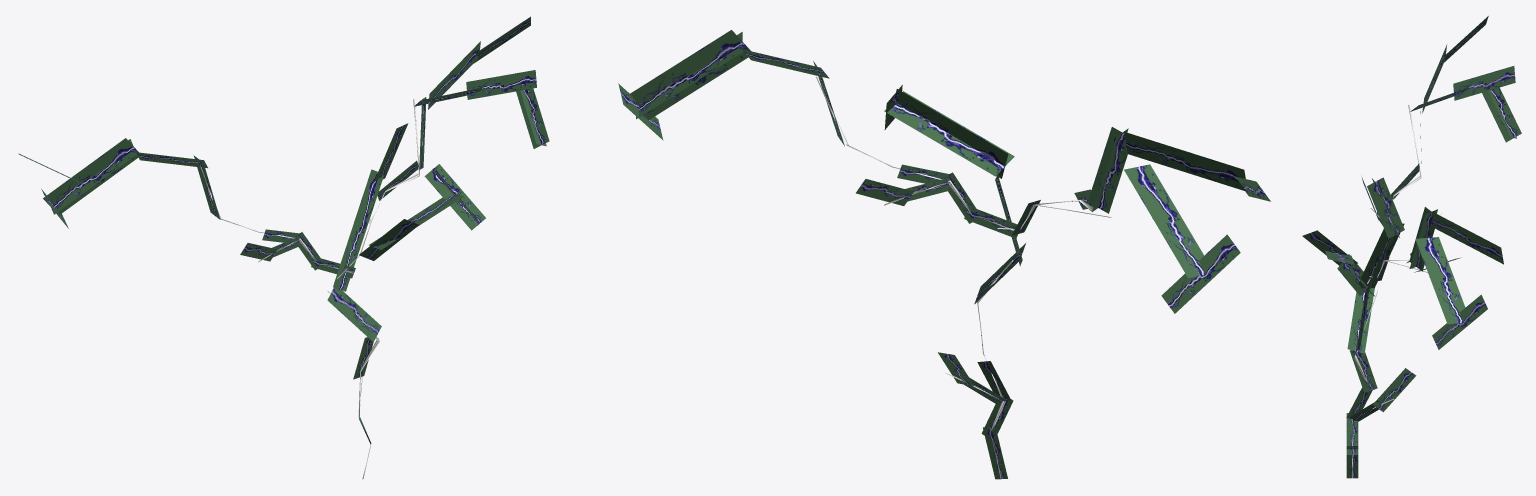
The model's file is Lightning.glb.
3 renders of one model, left to right at view 1: azimuth 30°, elevation 25°; view 2: azimuth 150°, elevation 25°; view 3: azimuth 270°, elevation 25°, orthographic. The views are drawn at different scales.
Visible parts, largest first — view 1: arc2.png__, gfxGlow_blue_a.png__; view 2: arc2.png__, gfxGlow_blue_a.png__; view 3: arc2.png__, gfxGlow_blue_a.png__.
Part boxes in pixels (x1=…): arc2.png__: x1=18, y1=16, x2=549, y2=444; gfxGlow_blue_a.png__: x1=201, y1=99, x2=419, y2=479; arc2.png__: x1=618, y1=30, x2=1270, y2=479; gfxGlow_blue_a.png__: x1=816, y1=76, x2=1133, y2=478; arc2.png__: x1=1302, y1=16, x2=1521, y2=478; gfxGlow_blue_a.png__: x1=1352, y1=105, x2=1441, y2=478.
Bounding box in the file's own units: 74.99 × 47.53 × 28.07.
2 materials, 1 textured.
